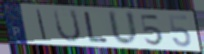5: (167, 14, 193, 49), (139, 13, 165, 46)
I: (35, 8, 49, 42)
L: (83, 11, 110, 44)
U: (106, 9, 140, 47), (52, 8, 83, 44)
